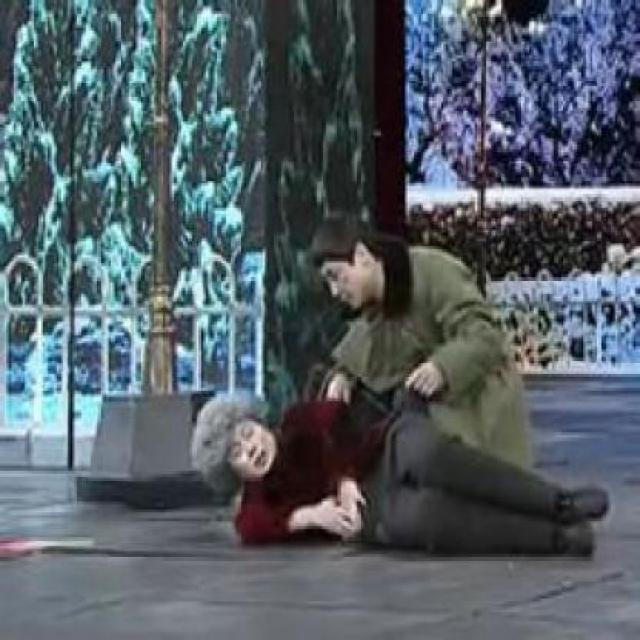fall: (190, 371, 628, 554)
